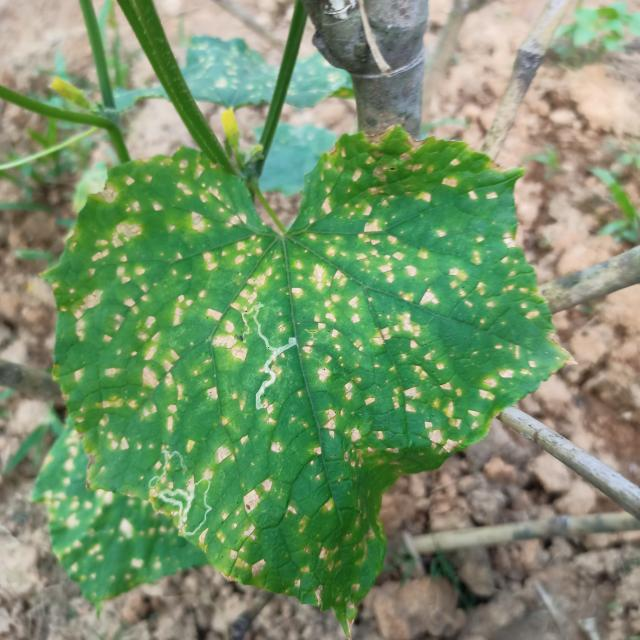disease_cucumber: (80, 159, 520, 598)
